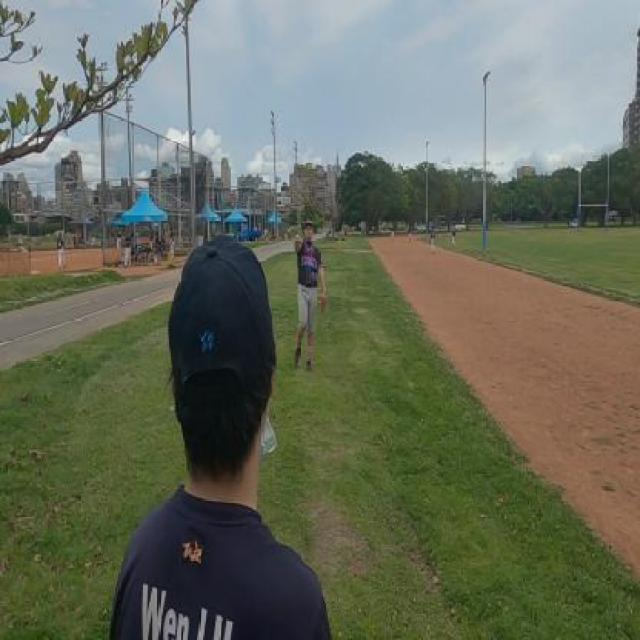baseball: (275, 175, 280, 183)
